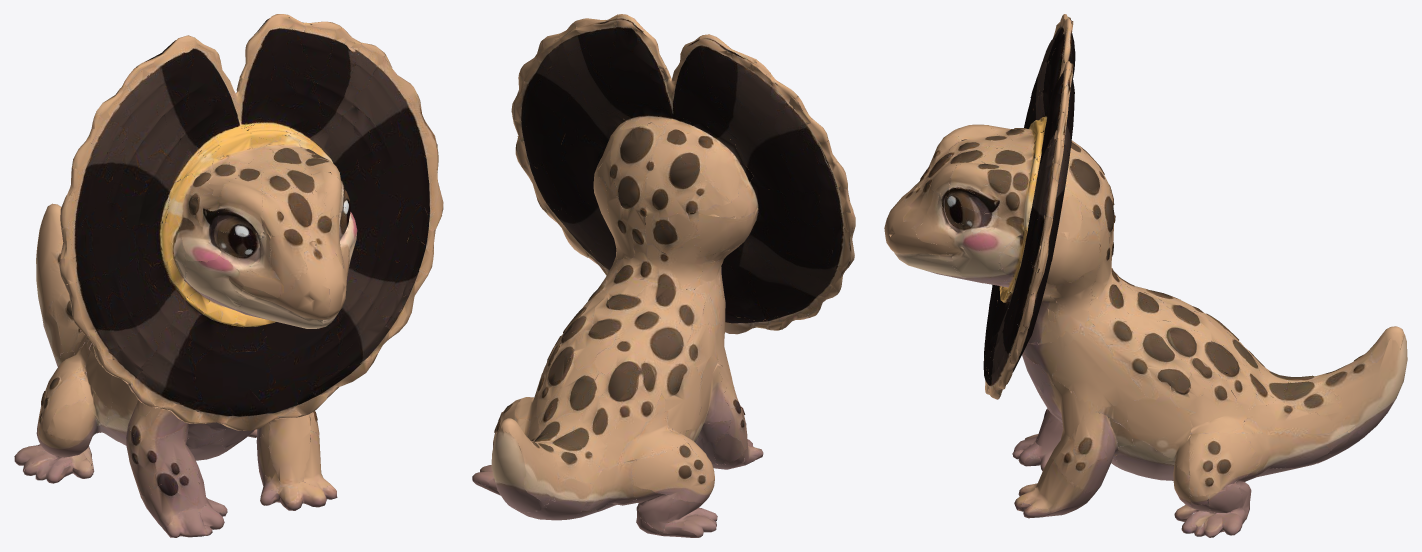
3 renders of one model, left to right at view 1: azimuth 30°, elevation 25°; view 2: azimuth 150°, elevation 25°; view 3: azimuth 270°, elevation 25°, orthographic. The views are drawn at different scales.
Parts seen in each view (by area): view 1: Mesh_0; view 2: Mesh_0; view 3: Mesh_0.
Part boxes in pixels (left/top/right/bottom): Mesh_0: left=14, top=14, right=443, bottom=537; Mesh_0: left=472, top=14, right=855, bottom=537; Mesh_0: left=884, top=14, right=1407, bottom=537.
Size of the model in its own units: 1.47 by 1.76 by 1.9.
Materials: 1 (1 with a texture image).
